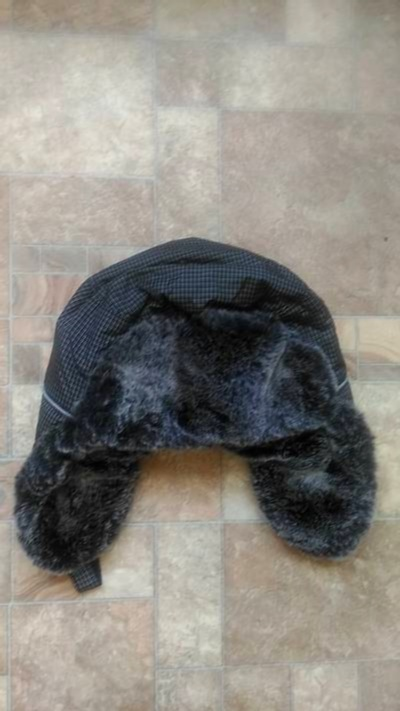Hat: (15, 204, 379, 604)
